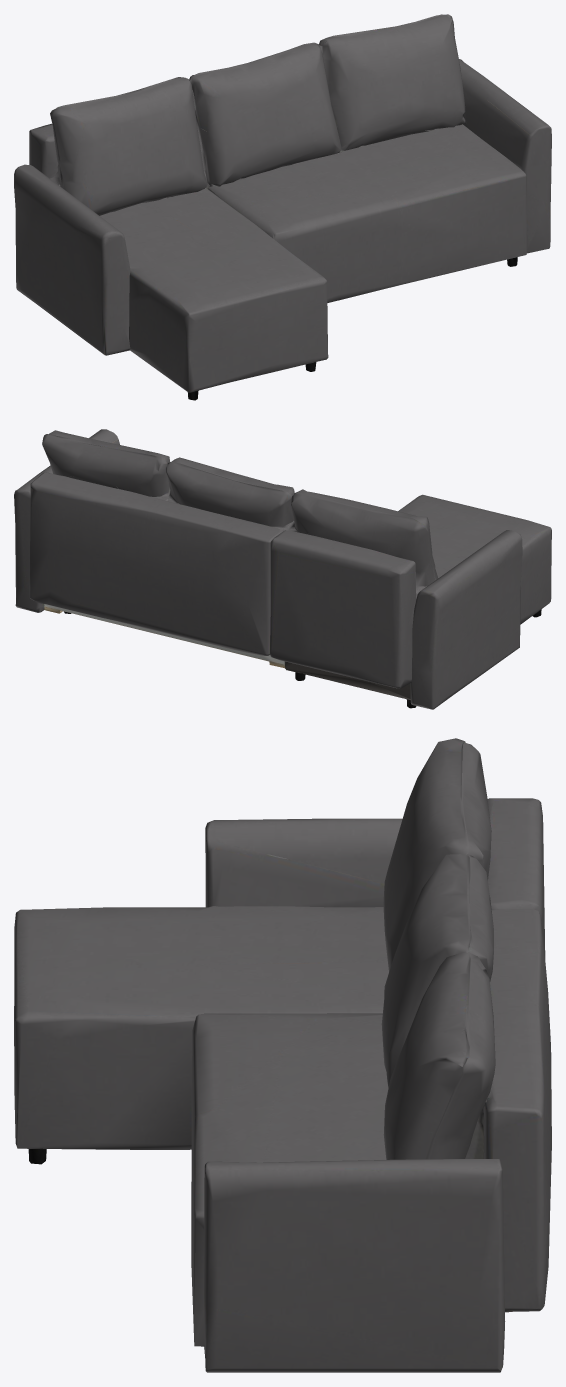
File: brissund_3_os_sofa_rozkadana_z_szezlongiem_60580869.glb
The picture shows the model from 3 angles, top to bottom: view 1: azimuth 30°, elevation 25°; view 2: azimuth 150°, elevation 25°; view 3: azimuth 270°, elevation 25°; orthographic projection. The views are drawn at different scales.
Visible parts, largest first — view 1: brissund_3_os_sofa_rozkadana_z_szezlongiem_60580869; view 2: brissund_3_os_sofa_rozkadana_z_szezlongiem_60580869; view 3: brissund_3_os_sofa_rozkadana_z_szezlongiem_60580869.
Boxes of the visible parts, x1=… form: brissund_3_os_sofa_rozkadana_z_szezlongiem_60580869: x1=14, y1=14, x2=551, y2=400; brissund_3_os_sofa_rozkadana_z_szezlongiem_60580869: x1=14, y1=429, x2=551, y2=709; brissund_3_os_sofa_rozkadana_z_szezlongiem_60580869: x1=14, y1=738, x2=551, y2=1372.
Size of the model in its own units: 2.3 by 0.973 by 1.45.
Materials: 1 (1 with a texture image).
